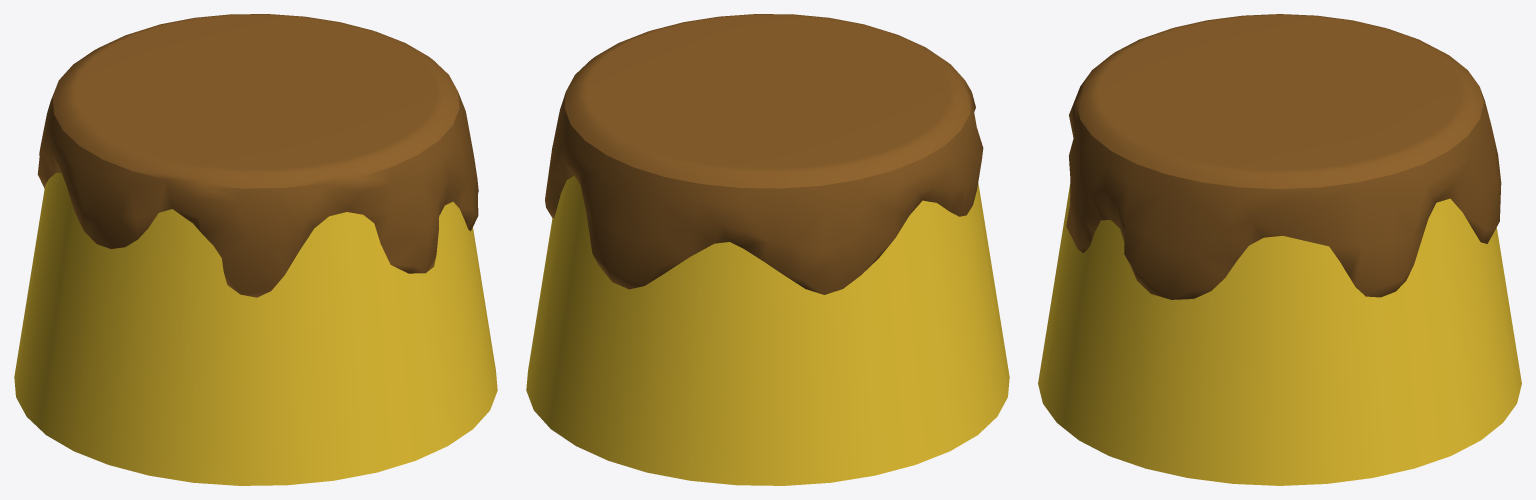
Rendered from pudding_noCherry.glb.
3 views of the same model, side by side, from view 1: azimuth 30°, elevation 25°; view 2: azimuth 150°, elevation 25°; view 3: azimuth 270°, elevation 25° (orthographic).
Visible parts, largest first — view 1: pCylinder5, pCylinder4; view 2: pCylinder5, pCylinder4; view 3: pCylinder5, pCylinder4.
Boxes of the visible parts, box(x1,y1,x2,y2) form: pCylinder5: box(14, 172, 497, 485); pCylinder4: box(37, 14, 478, 297); pCylinder5: box(526, 175, 1009, 485); pCylinder4: box(545, 14, 983, 294); pCylinder5: box(1038, 184, 1521, 485); pCylinder4: box(1066, 14, 1501, 299).
Bounding box in the file's own units: 0.594 × 0.3947 × 0.594.
Materials: 1 (1 with a texture image).
